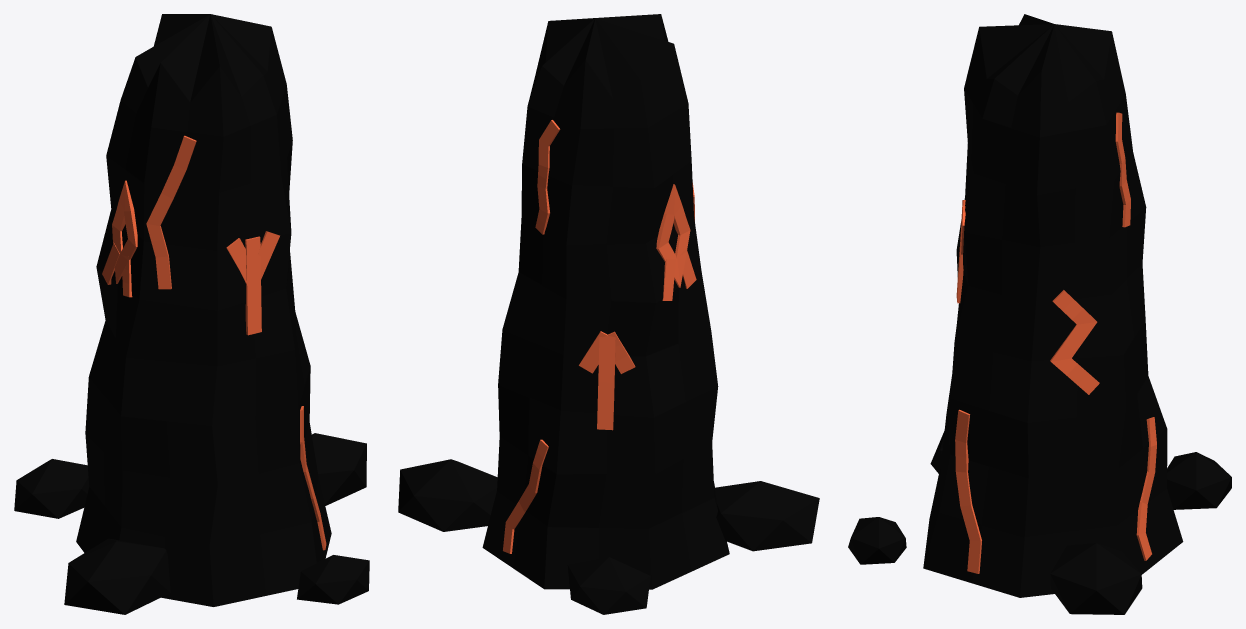
The model's file is metin.glb.
The picture shows the model from 3 angles, left to right: view 1: azimuth 30°, elevation 25°; view 2: azimuth 150°, elevation 25°; view 3: azimuth 270°, elevation 25°; orthographic projection. The views are drawn at different scales.
Parts seen in each view (by area): view 1: metin; view 2: metin; view 3: metin.
Boxes of the visible parts, x1,y1,x2,y2 form: metin: [14, 14, 369, 614]; metin: [398, 14, 819, 614]; metin: [848, 14, 1231, 614].
Bounding box in the file's own units: 1.39 × 1.96 × 1.3.
